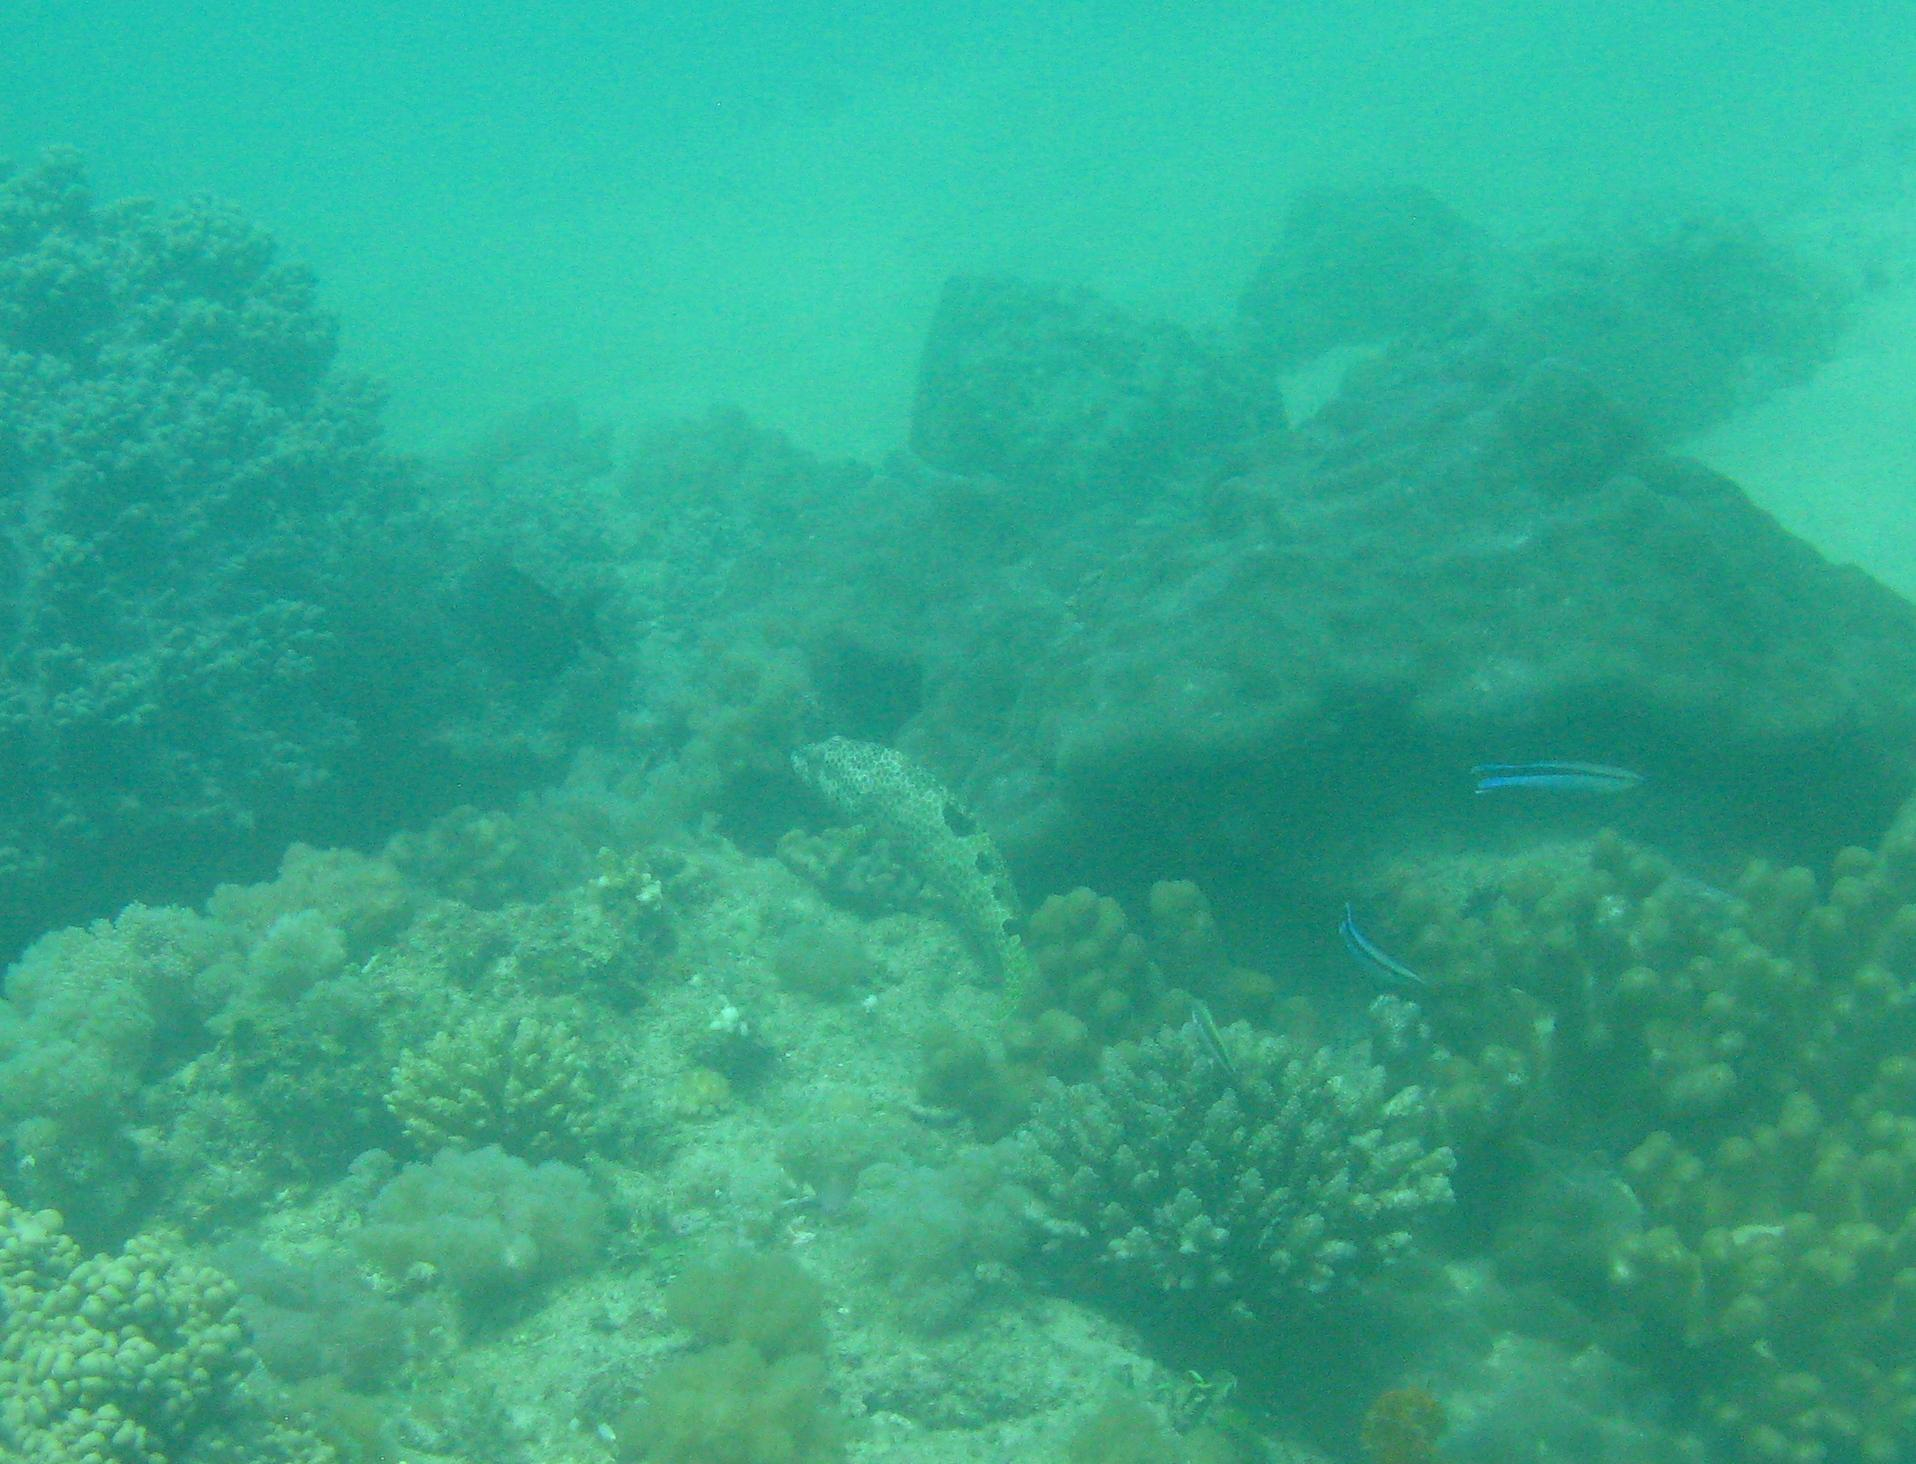Fish: (738, 667, 1099, 1120)
